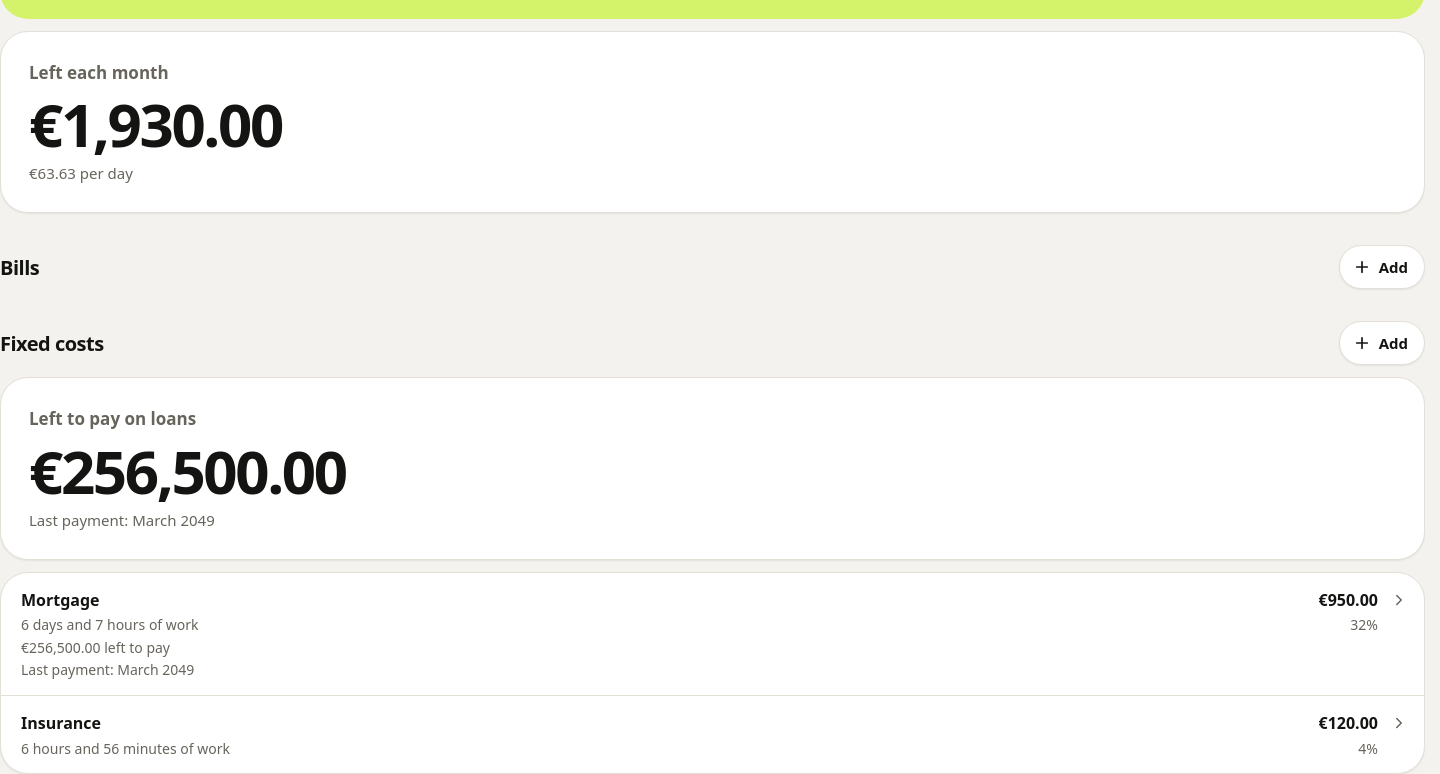
Test case: Monthly fixed costs › edits a cost and returns focus to it
(page scrolled)
Click the button with aria-label "Edit Mortgage".
click(60, 600)  # box [21, 588, 1306, 612]
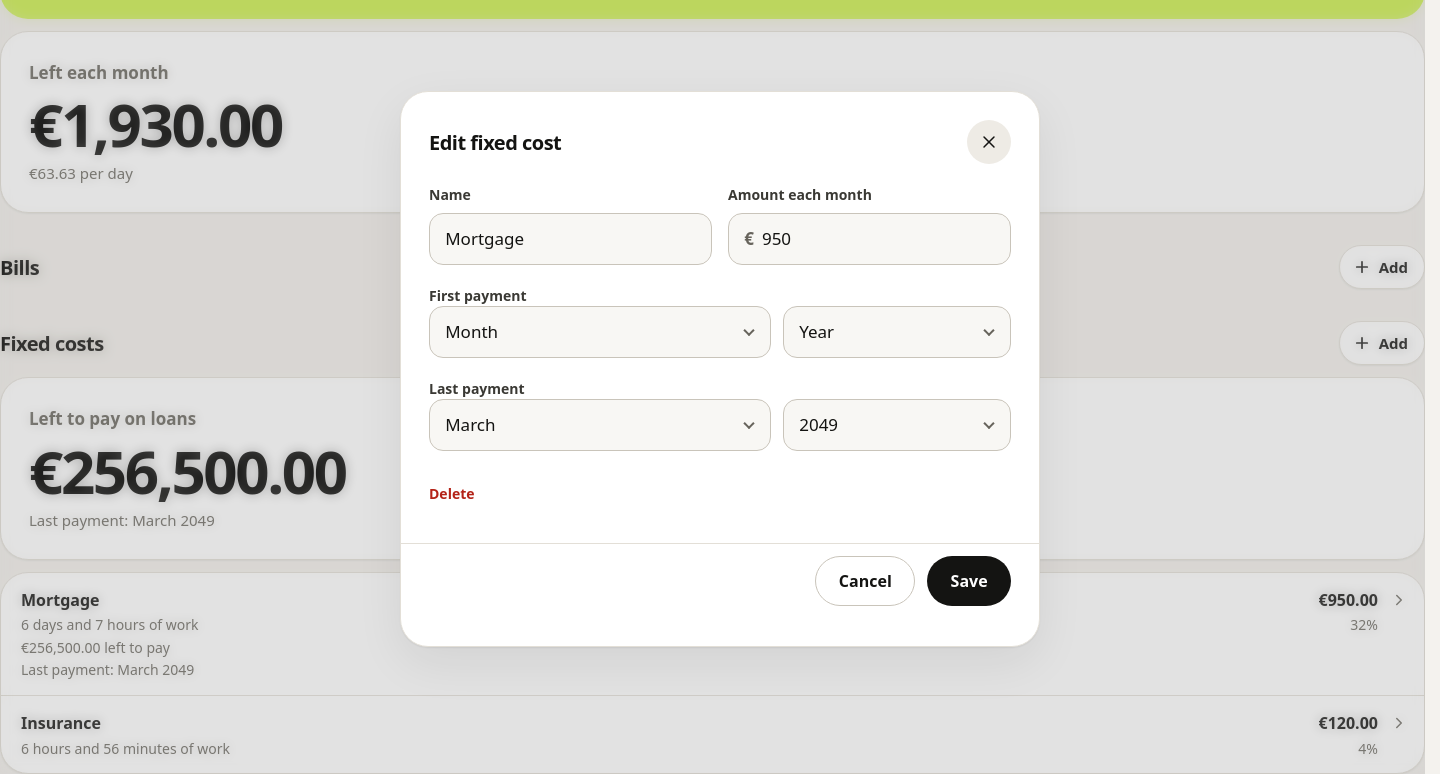
Expected: the heading "Edit fixed cost" is shown, [429, 130, 561, 154]
Expected: the field labelled "Name" holds "Mortgage", [429, 213, 712, 265]
Expected: the field labelled "Amount each month" holds "950"
Type "900.5" into the field labelled "Amount each month".
click(884, 239); type("900.5")  # box [762, 215, 1005, 263]
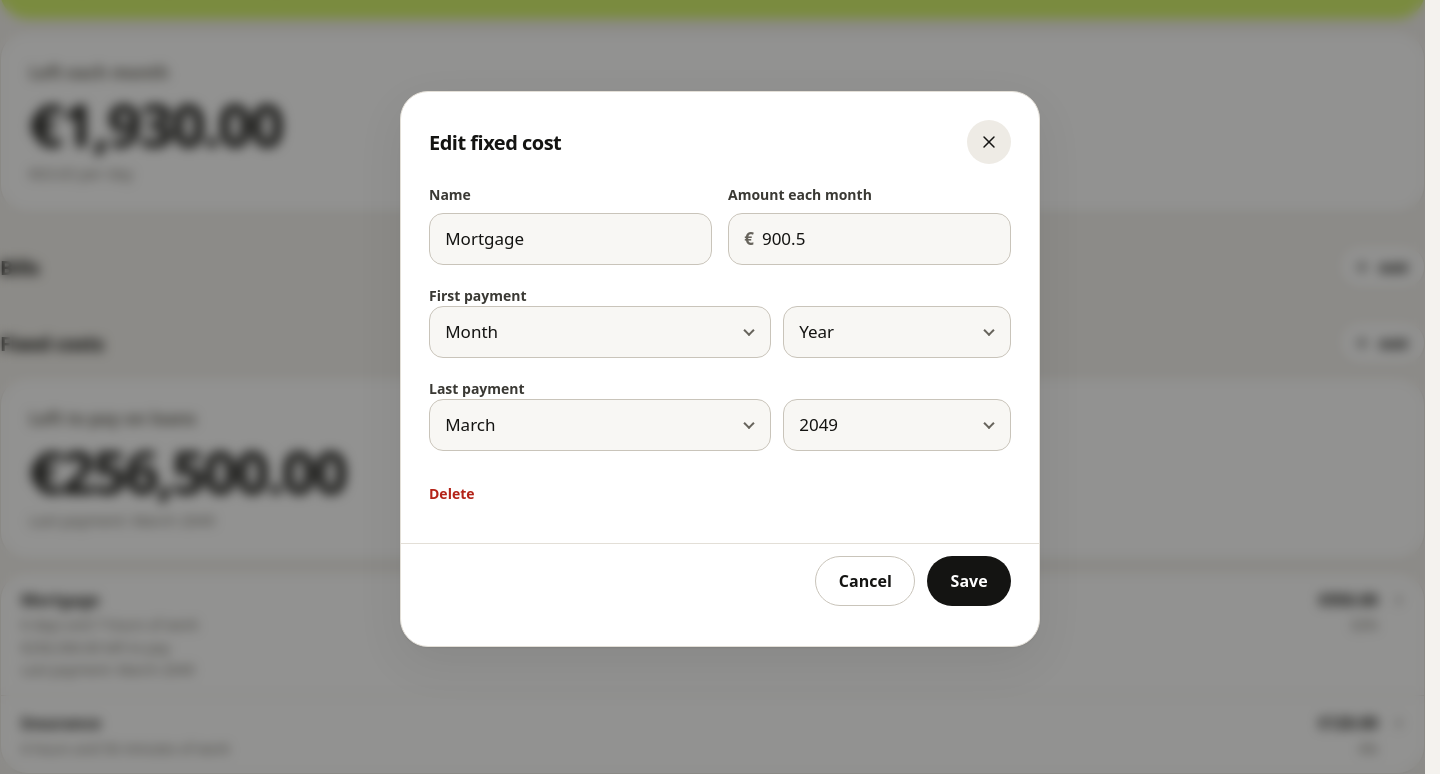
Select "Month" in the 2nd dropdown named "Month" at [600, 425], box [429, 399, 771, 451]
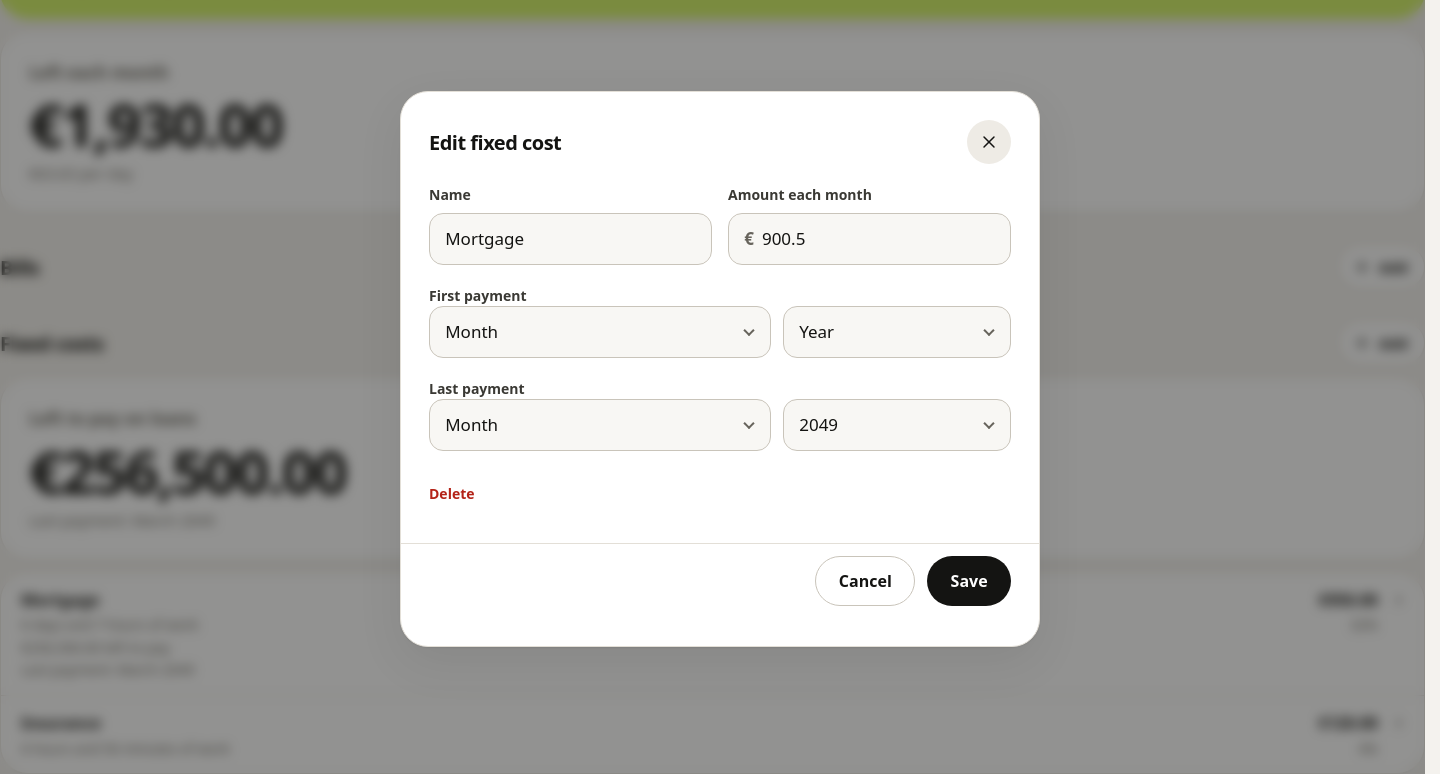
Select "Year" in the 2nd dropdown named "Year" at [897, 425], box [783, 399, 1011, 451]
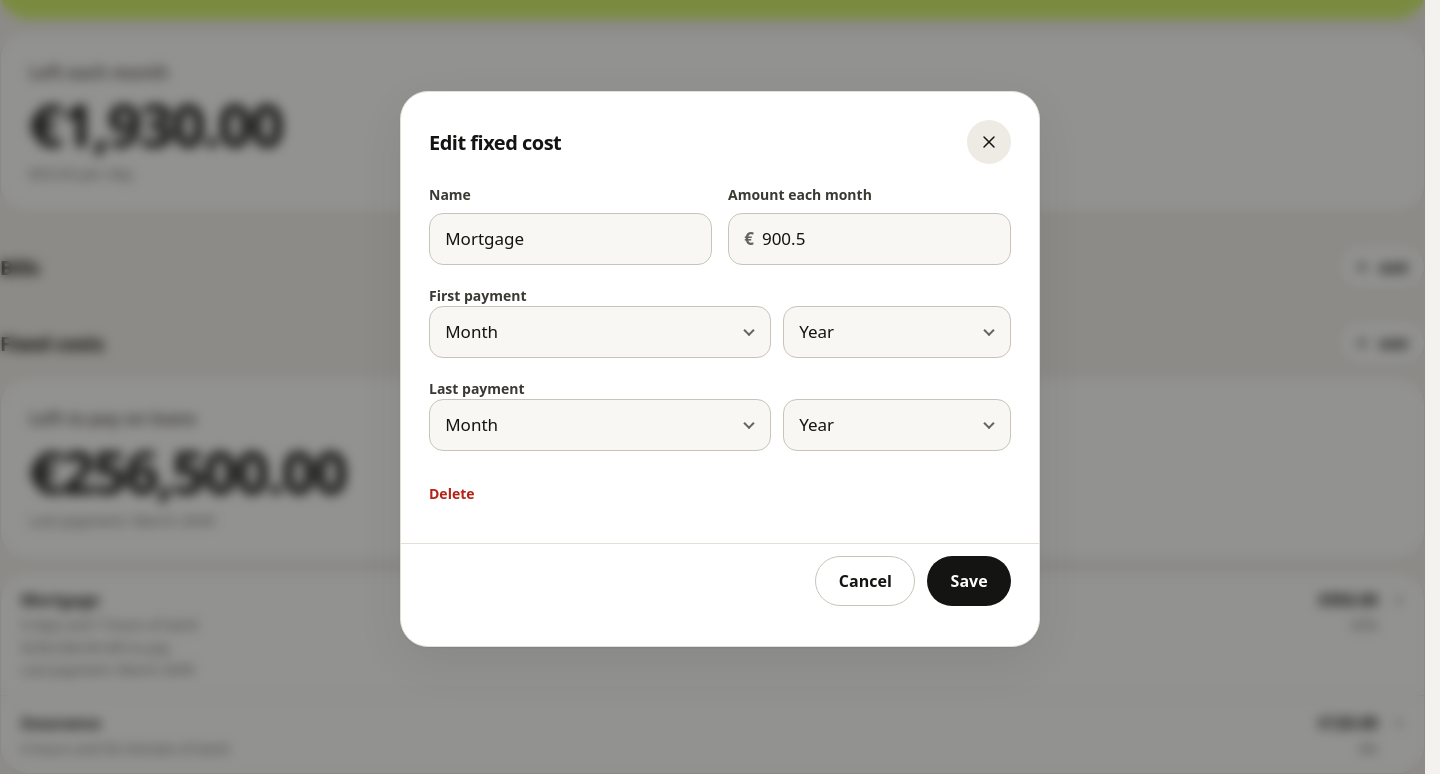
Click the button "Save".
click(969, 581)  # box [927, 556, 1011, 606]
(page scrolled)
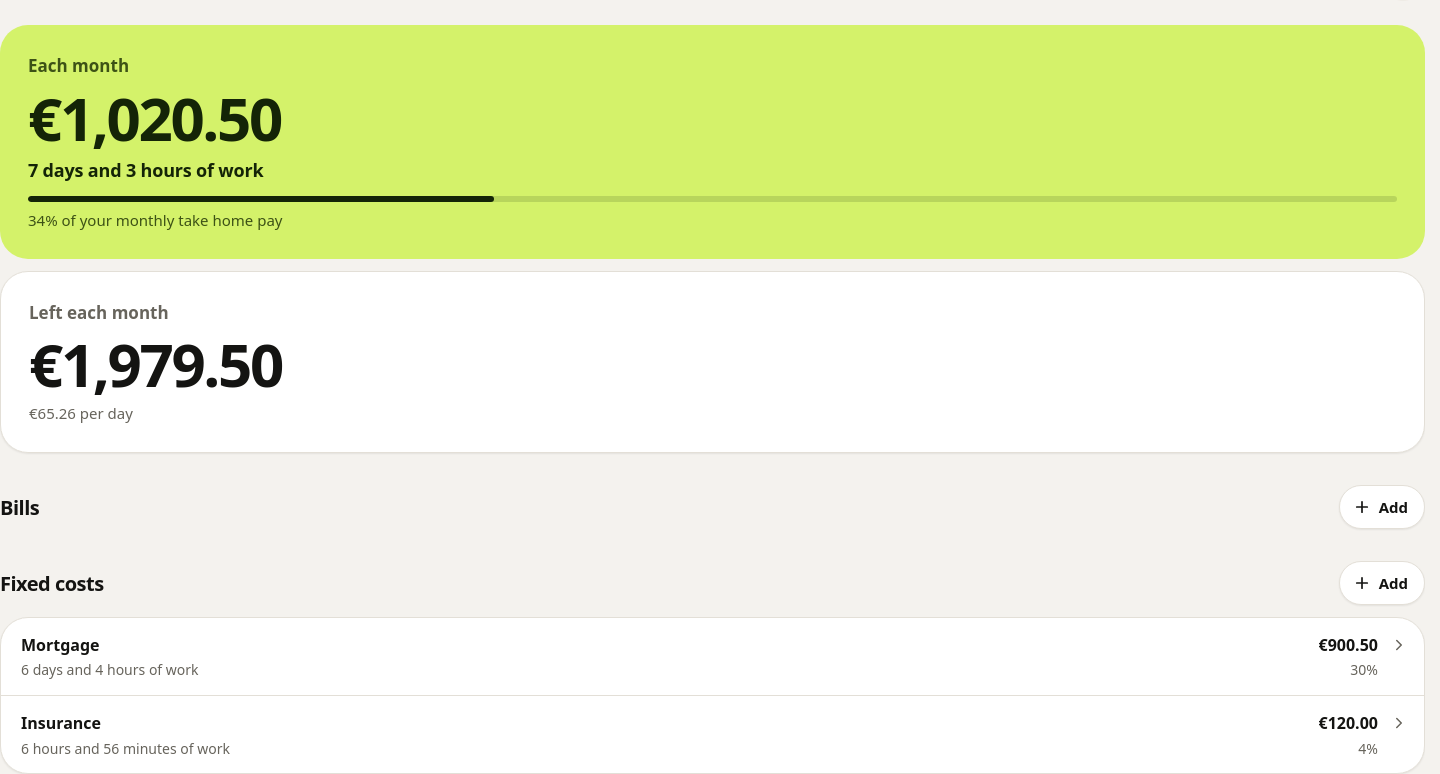
Expected: the dialog is gone
